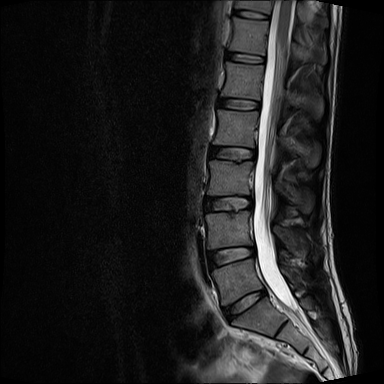Normal IVD: (216, 280, 271, 330), (201, 244, 260, 274), (204, 138, 259, 167), (200, 190, 255, 217), (212, 91, 262, 115), (223, 46, 267, 66), (227, 5, 271, 22)
